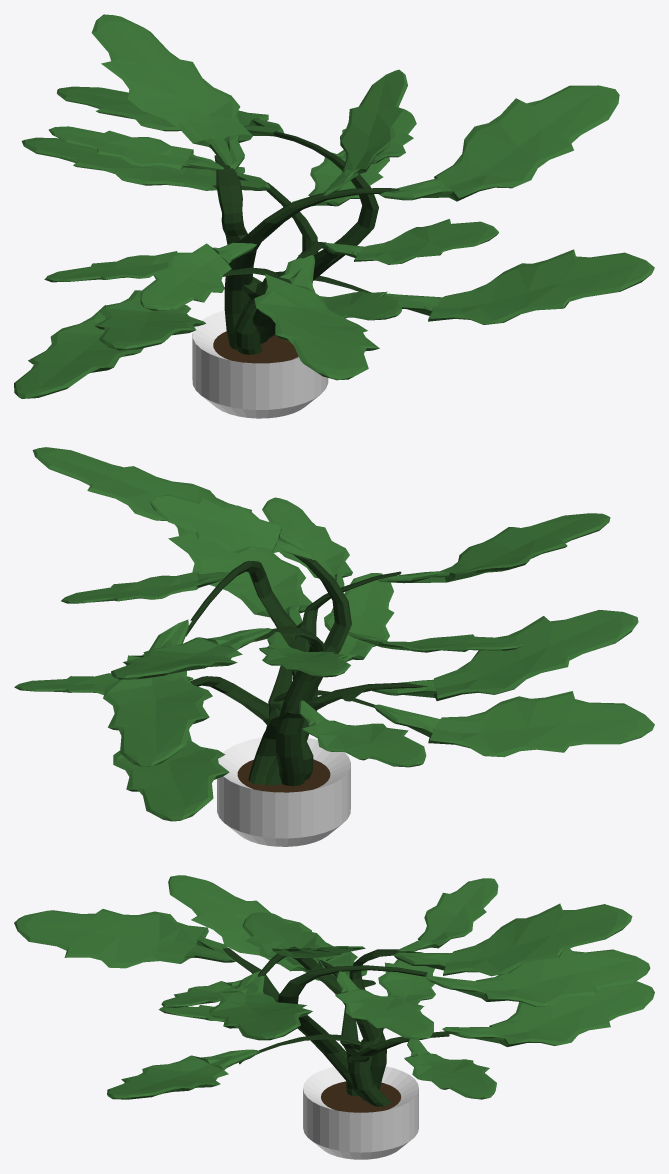
Rendered from plant.glb.
3 views of the same model, one above another, from view 1: azimuth 30°, elevation 25°; view 2: azimuth 150°, elevation 25°; view 3: azimuth 270°, elevation 25° (orthographic). The views are drawn at different scales.
Parts seen in each view (by area): view 1: hoja, tallo, maceta; view 2: hoja, tallo, maceta; view 3: hoja, tallo, maceta.
Boxes of the visible parts, bbox=[...] form: hoja: bbox=[14, 14, 654, 398]; tallo: bbox=[214, 131, 399, 354]; maceta: bbox=[192, 310, 328, 418]; hoja: bbox=[14, 447, 654, 821]; tallo: bbox=[185, 555, 427, 786]; maceta: bbox=[217, 737, 350, 846]; hoja: bbox=[14, 875, 654, 1099]; tallo: bbox=[223, 946, 463, 1106]; maceta: bbox=[303, 1066, 418, 1159].
Size of the model in its own units: 24.75 by 11.42 by 26.3.
